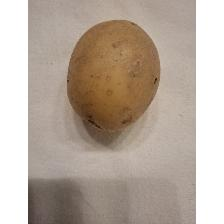Kartoffel: (65, 15, 163, 134)
